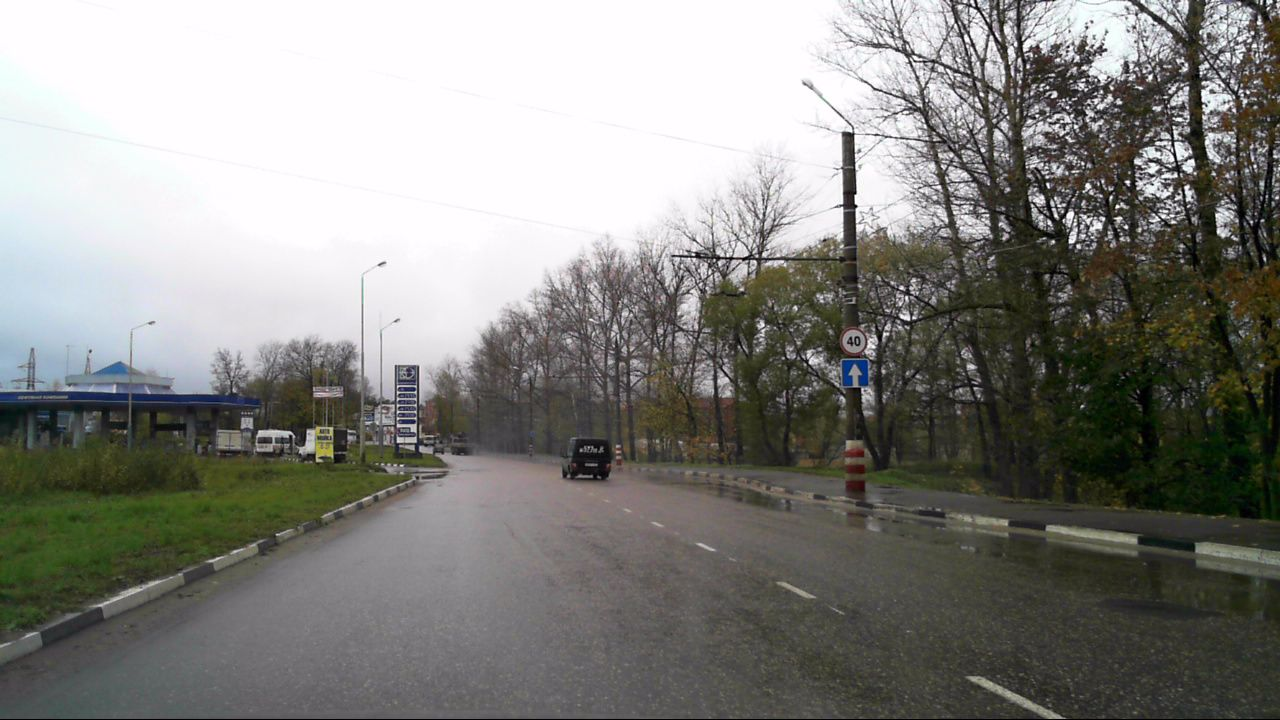speed_warning_40: (838, 326, 869, 356)
